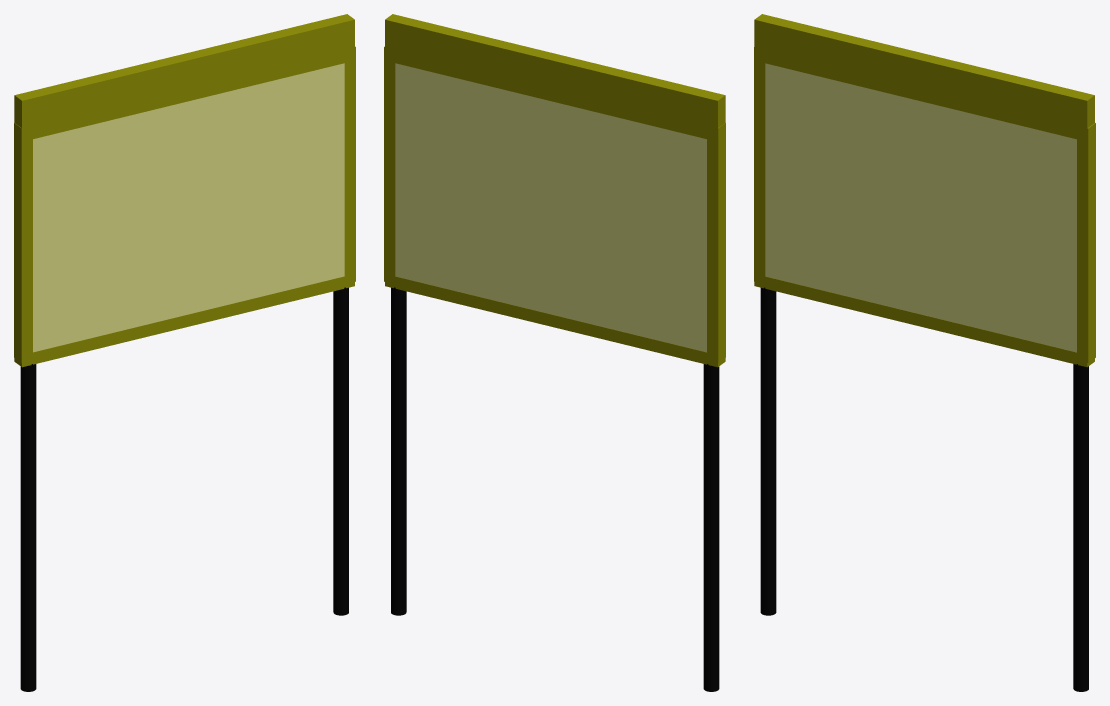
The model's file is Sign_Board_Yellow.fbx.
3 views of the same model, side by side, from view 1: azimuth 30°, elevation 25°; view 2: azimuth 150°, elevation 25°; view 3: azimuth 330°, elevation 25° (orthographic).
Parts seen in each view (by area): view 1: pCube1, pCube2, pCylinder4, pCylinder3, pCube6, pCube5, pCube3; view 2: pCube1, pCube2, pCylinder4, pCylinder3, pCube6, pCube5, pCube3; view 3: pCube1, pCube2, pCylinder4, pCylinder3, pCube3, pCube5, pCube6.
Part boxes in pixels (box(x1,y1,x2,y2)): pCube1: box(33, 63, 344, 352); pCube2: box(14, 14, 354, 139); pCylinder4: box(20, 364, 36, 691); pCylinder3: box(333, 287, 348, 615); pCube6: box(14, 122, 32, 362); pCube5: box(14, 276, 354, 367); pCube3: box(344, 46, 355, 284); pCube1: box(395, 63, 706, 352); pCube2: box(385, 14, 725, 141); pCylinder4: box(703, 364, 719, 691); pCylinder3: box(391, 287, 406, 615); pCube6: box(707, 122, 725, 362); pCube5: box(385, 274, 725, 367); pCube3: box(384, 46, 395, 284); pCube1: box(765, 63, 1076, 352); pCube2: box(754, 14, 1094, 141); pCylinder4: box(760, 287, 776, 615); pCylinder3: box(1073, 364, 1088, 691); pCube3: box(1077, 123, 1095, 362); pCube5: box(754, 274, 1094, 367); pCube6: box(754, 47, 765, 282).
Size of the model in its own units: 17.09 by 28.98 by 0.6975.
